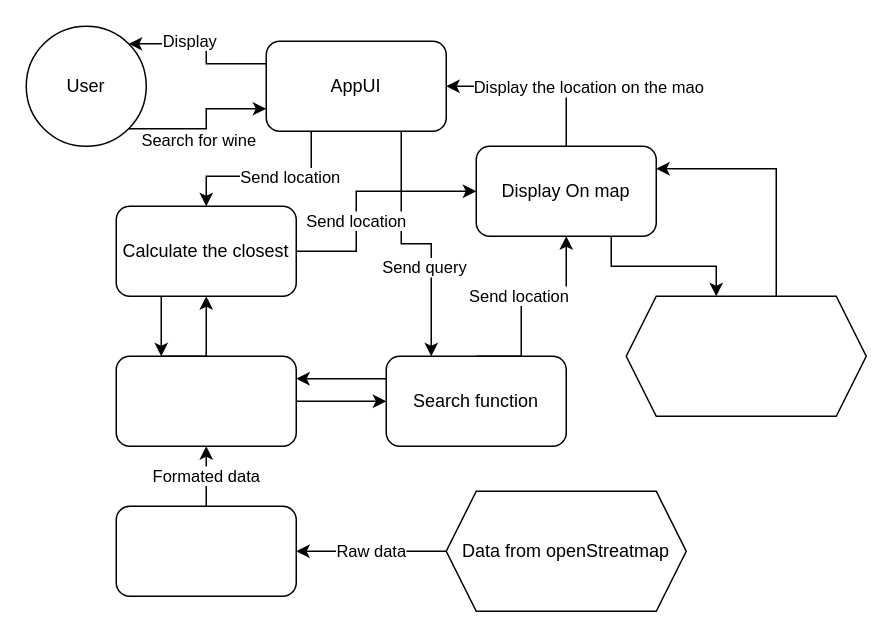
This 893x638 diagram has some shape labels left out. Each missing label, with the centre of its shape:
MapAPI: point (745, 355)
Pipe and filters: point (205, 550)
Wine Database: point (205, 400)
